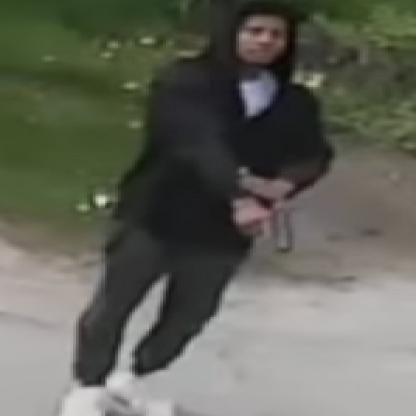criminal: (54, 0, 336, 416)
weapon: (263, 199, 297, 256)
